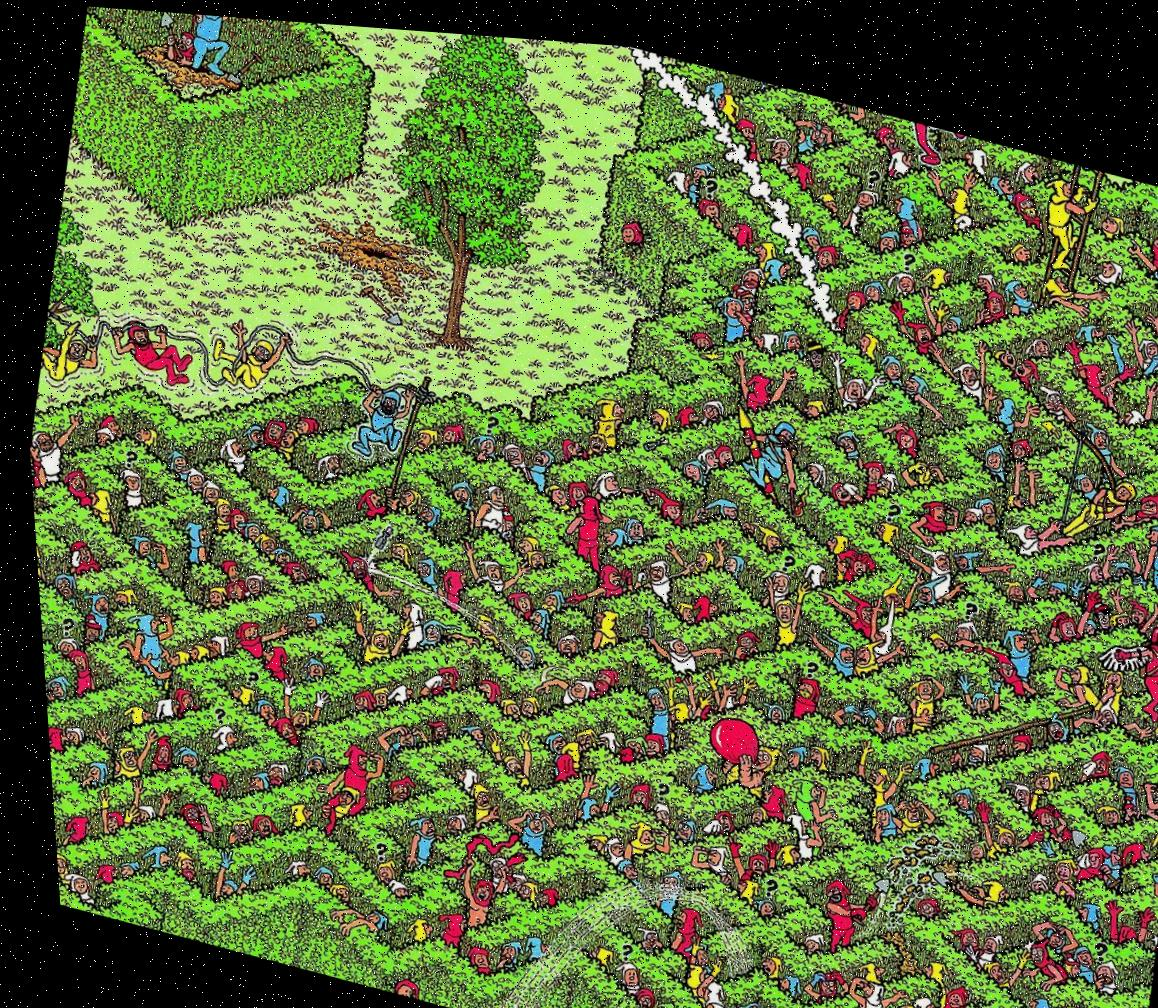waldo: (1081, 583, 1108, 615)
